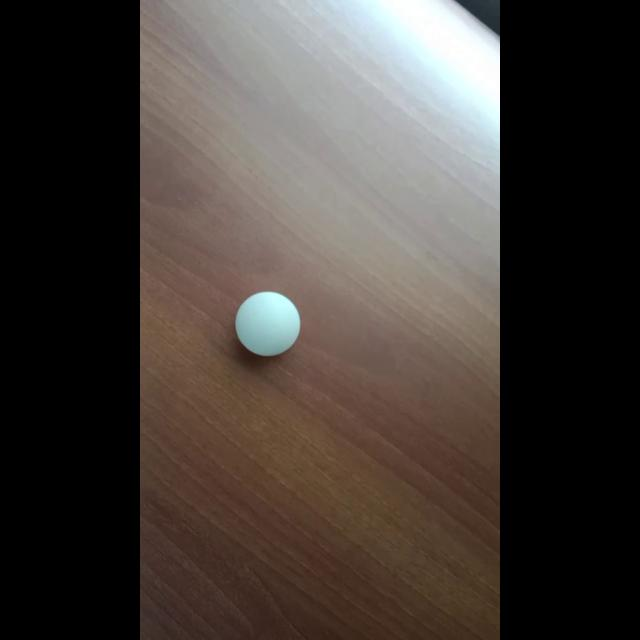white ball: (235, 291, 301, 357)
